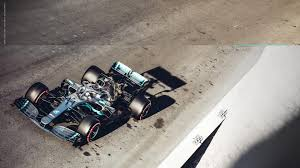FormulaOneCar: (12, 59, 158, 147)
